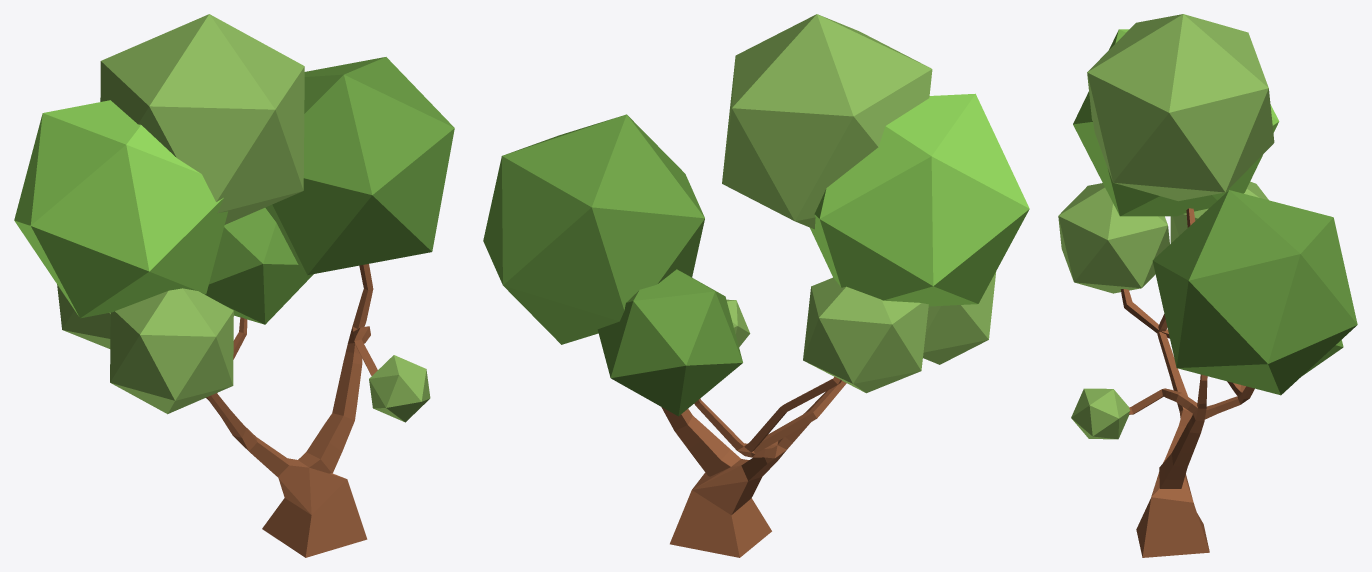
Rendered from arvore3.fbx.
The picture shows the model from 3 angles, left to right: view 1: azimuth 30°, elevation 25°; view 2: azimuth 150°, elevation 25°; view 3: azimuth 270°, elevation 25°; orthographic projection. The views are drawn at different scales.
Parts seen in each view (by area): view 1: Icosphere.009, Icosphere.019, Icosphere.017, Cube.003, Icosphere.013, Icosphere.016, Icosphere.029, Icosphere.015; view 2: Icosphere.019, Icosphere.009, Icosphere.017, Icosphere.016, Cube.003, Icosphere.015, Icosphere.013; view 3: Icosphere.019, Icosphere.017, Cube.003, Icosphere.013, Icosphere.009, Icosphere.029, Icosphere.015.
Boxes of the visible parts, bbox=[...] form: Icosphere.009: bbox=[14, 100, 227, 318]; Icosphere.019: bbox=[265, 57, 454, 275]; Icosphere.017: bbox=[100, 14, 304, 224]; Cube.003: bbox=[206, 264, 377, 557]; Icosphere.013: bbox=[110, 288, 233, 414]; Icosphere.016: bbox=[205, 208, 313, 324]; Icosphere.029: bbox=[369, 355, 430, 422]; Icosphere.015: bbox=[57, 284, 110, 348]; Icosphere.019: bbox=[483, 114, 704, 344]; Icosphere.009: bbox=[810, 93, 1029, 306]; Icosphere.017: bbox=[722, 14, 932, 229]; Icosphere.016: bbox=[597, 269, 742, 416]; Cube.003: bbox=[661, 376, 846, 557]; Icosphere.015: bbox=[803, 277, 928, 393]; Icosphere.013: bbox=[923, 271, 996, 364]; Icosphere.019: bbox=[1152, 190, 1357, 395]; Icosphere.017: bbox=[1087, 14, 1274, 201]; Cube.003: bbox=[1120, 208, 1254, 557]; Icosphere.013: bbox=[1058, 183, 1169, 293]; Icosphere.009: bbox=[1073, 29, 1279, 216]; Icosphere.029: bbox=[1071, 388, 1130, 439]; Icosphere.015: bbox=[1170, 181, 1268, 243].
Bounding box in the file's own units: 1438 × 1577 × 883.
